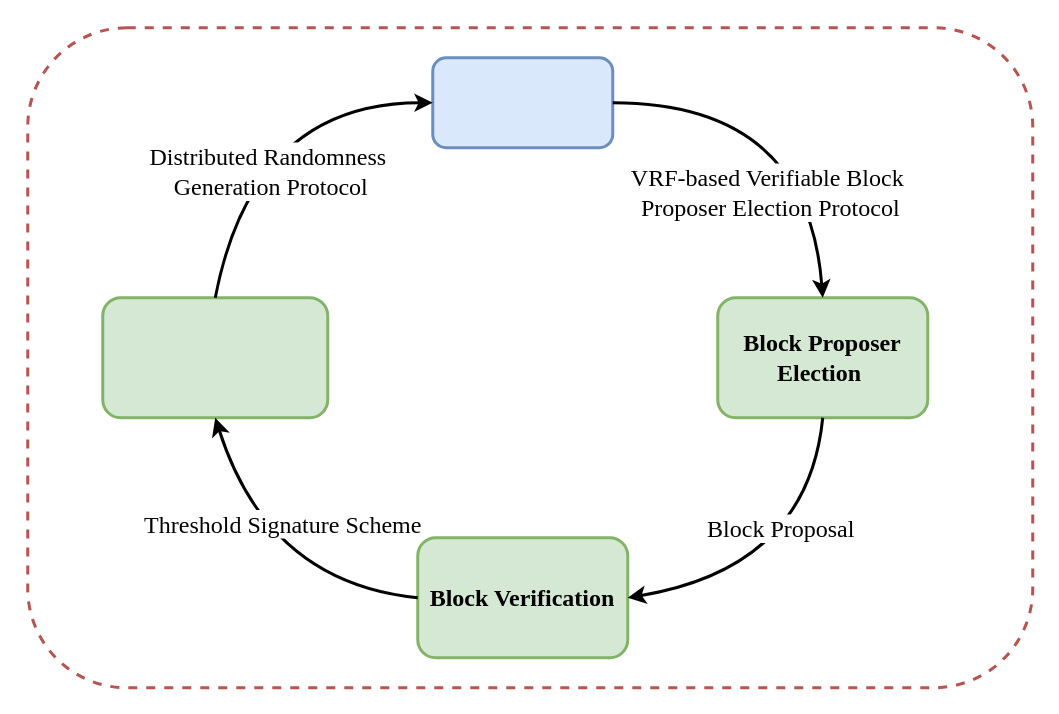
This 1059x714 diagram has some shape labels left out. The box of each missing label's shape, as (x1, y1, x2, y2) in pixels:
Block Finalization (Signature Recovery): (100, 296, 328, 418)
Randomness Generation: (430, 56, 614, 148)
